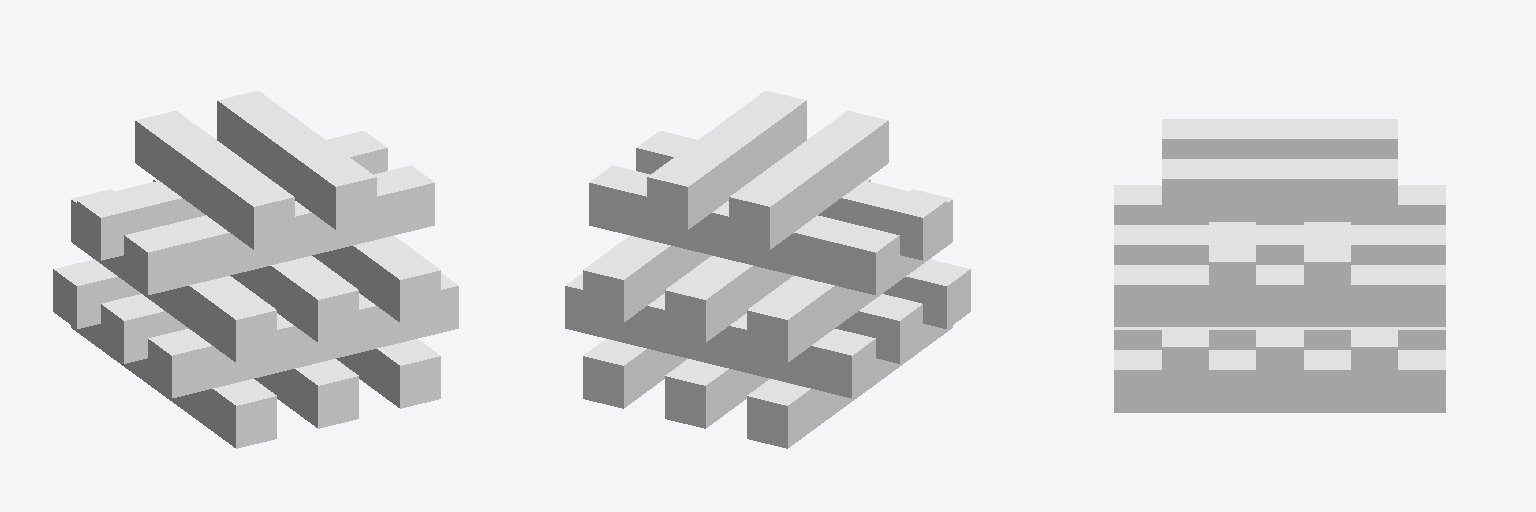
Rendered from CamFireWood.obj.
3 views of the same model, side by side, from view 1: azimuth 30°, elevation 25°; view 2: azimuth 150°, elevation 25°; view 3: azimuth 270°, elevation 25° (orthographic).
Parts seen in each view (by area): view 1: object 1; view 2: object 1; view 3: object 1.
Boxes of the visible parts, x1,y1,x2,y2 form: object 1: [53, 91, 458, 448]; object 1: [565, 91, 970, 448]; object 1: [1114, 119, 1445, 412].
Size of the model in its own units: 0.7 by 0.5 by 0.7.